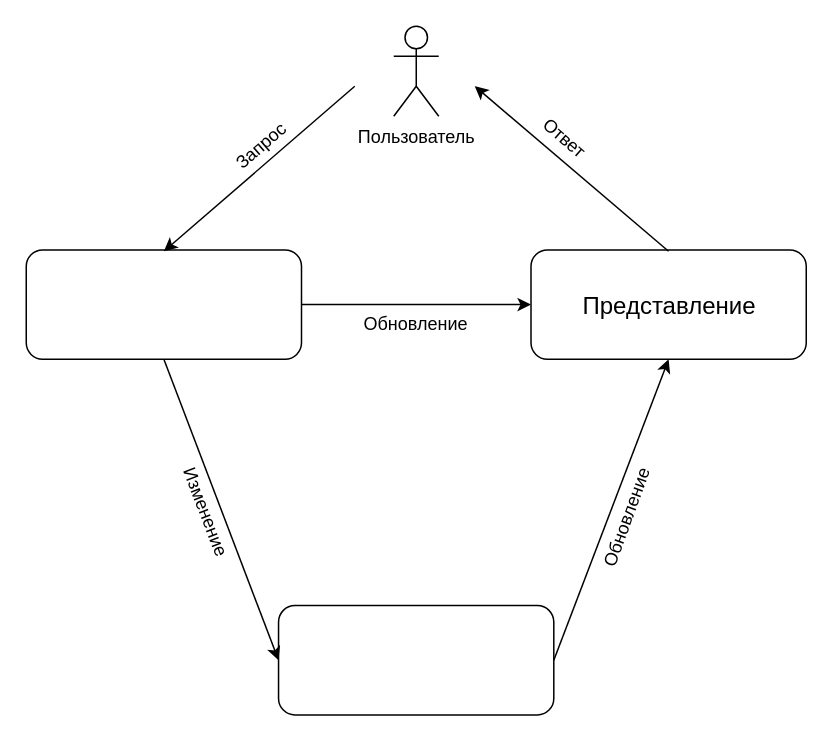
Some shapes in this 833 by 743 pixel diagram are drawn without their labels. The shapes that lost their labels are listed below. From the top down, each one's box as (x1, y1, x2, y2) in pixels, then its label:
(25, 248, 302, 359): Контроллер
(277, 604, 554, 715): Модель
